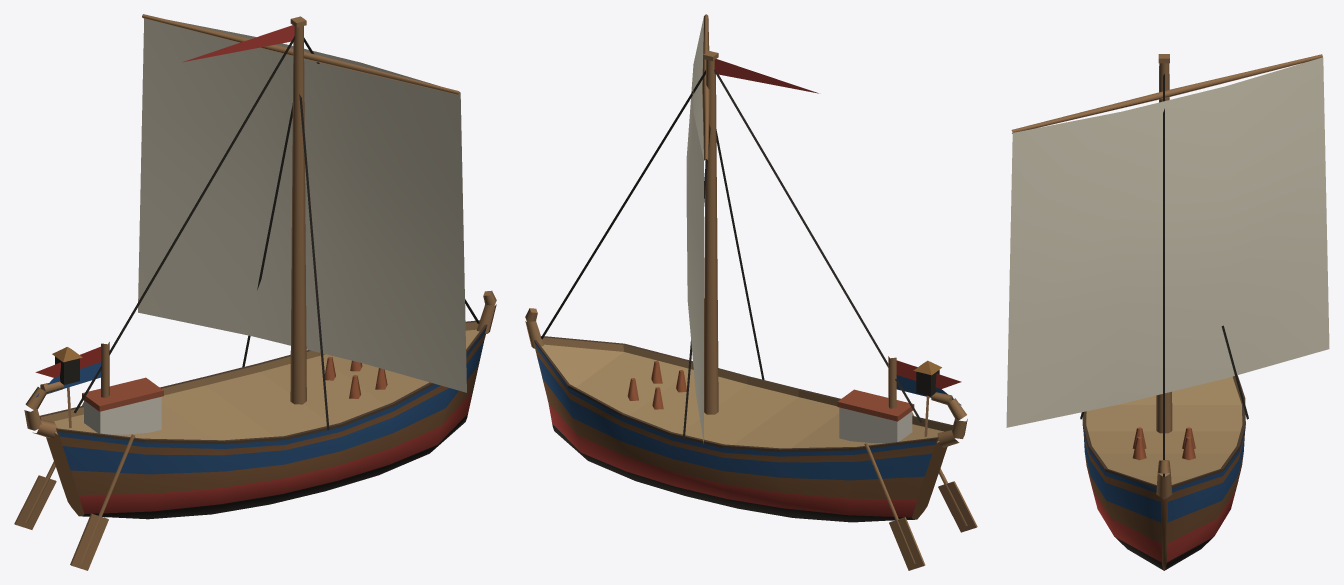
File: hull_usd_coaster_boat.glb
The picture shows the model from 3 angles, left to right: view 1: azimuth 30°, elevation 25°; view 2: azimuth 150°, elevation 25°; view 3: azimuth 270°, elevation 25°; orthographic projection. The views are drawn at different scales.
Parts seen in each view (by area): view 1: sail_main, hull, deck, mast, rigging, flag, yards; view 2: hull, deck, sail_main, mast, rigging, flag, yards; view 3: sail_main, hull, yards, rigging, mast, deck.
Part boxes in pixels (x1,y1,x2,y2): sail_main: (138,18,466,392); hull: (24,290,496,519); deck: (14,347,387,570); mast: (101,16,306,404); rigging: (74,36,479,430); flag: (35,25,294,397); yards: (142,14,459,94); hull: (525,308,967,522); deck: (627,360,977,570); sail_main: (686,16,703,443); mast: (703,51,896,414); rigging: (541,69,922,438); flag: (714,59,961,405); yards: (702,14,709,160); sail_main: (1006,57,1329,427); hull: (1082,375,1245,570); yards: (1011,54,1322,133); rigging: (1080,74,1248,477); mast: (1156,54,1172,433); deck: (1132,427,1195,460).
Size of the model in its own units: 8.04 by 7.7 by 4.86.
